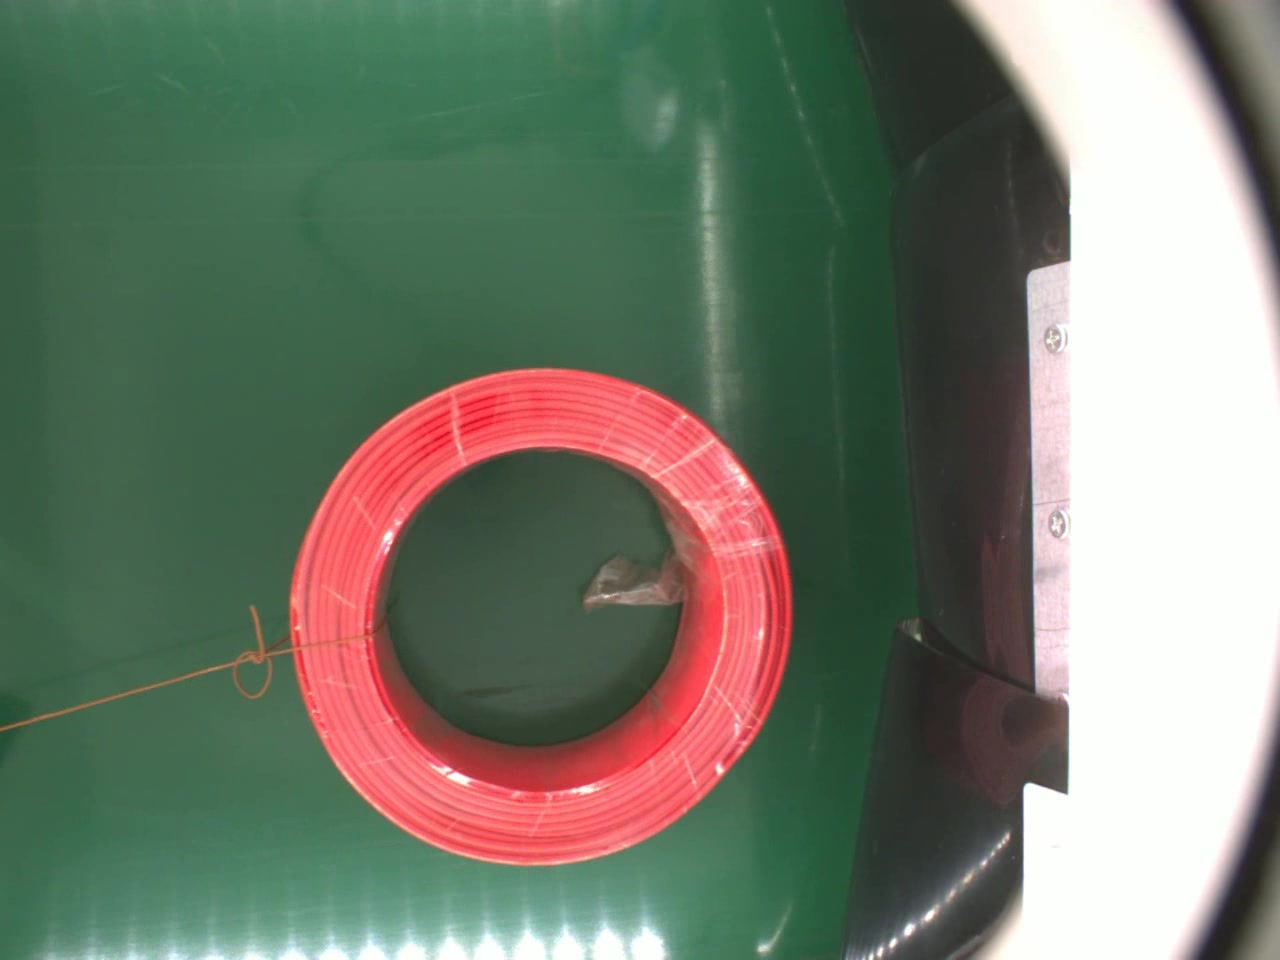red: (280, 361, 798, 868)
